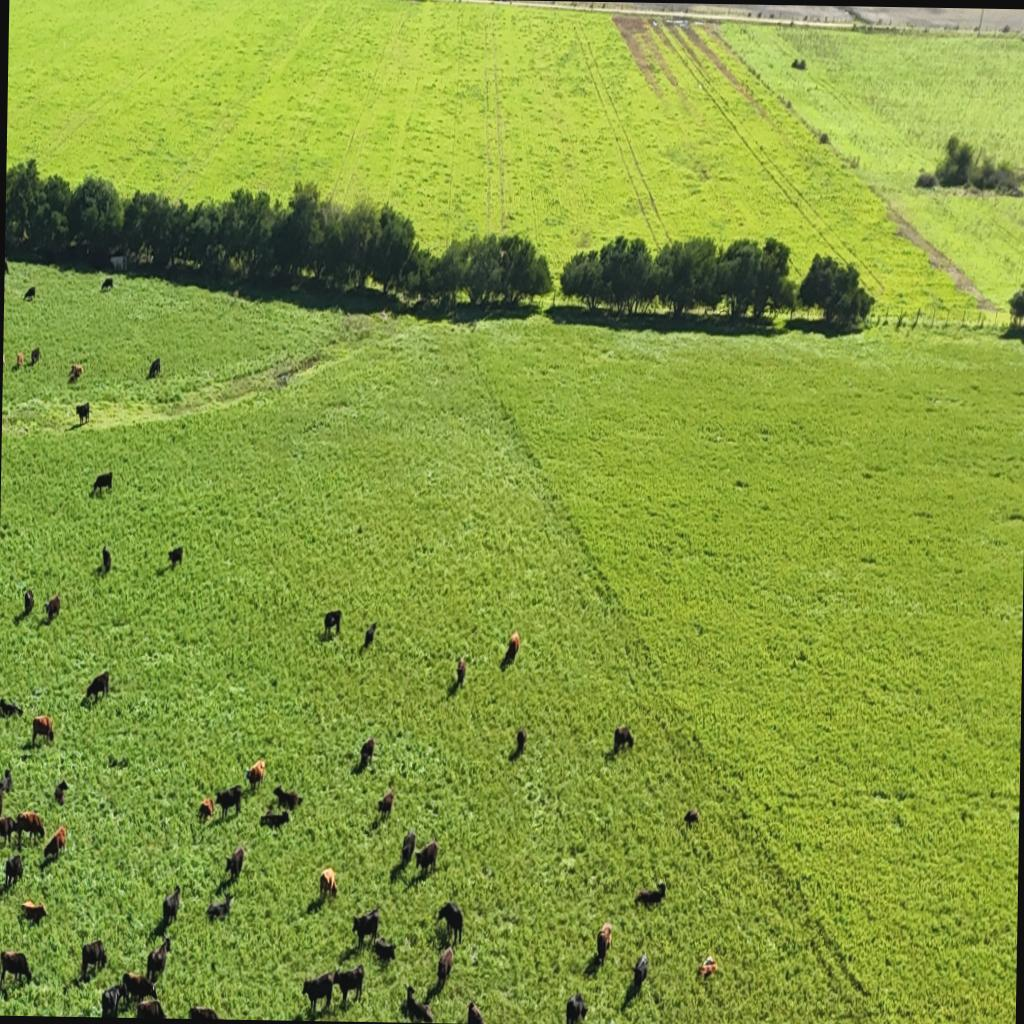cow: (300, 968, 335, 1014), (332, 962, 364, 1007), (0, 948, 33, 988), (124, 970, 160, 1006), (402, 982, 433, 1023), (352, 906, 380, 949), (437, 900, 464, 944), (145, 937, 170, 983), (14, 810, 45, 846), (628, 951, 650, 1001), (80, 938, 106, 980), (414, 838, 438, 880), (634, 880, 666, 910), (216, 784, 242, 820), (42, 824, 66, 862), (84, 670, 109, 704), (224, 844, 244, 886), (162, 884, 180, 930), (100, 982, 123, 1017), (566, 990, 589, 1024), (205, 893, 231, 923), (3, 852, 23, 890), (436, 944, 454, 986), (273, 785, 302, 811), (244, 758, 266, 792), (582, 948, 606, 979), (596, 920, 613, 962), (30, 714, 53, 745), (21, 899, 47, 926), (372, 936, 396, 964), (0, 813, 17, 852), (136, 996, 166, 1018), (319, 866, 337, 900), (91, 471, 113, 498), (503, 629, 520, 663), (376, 788, 394, 820), (400, 828, 416, 864), (614, 724, 634, 752), (358, 735, 375, 766), (452, 654, 467, 688), (260, 810, 288, 828), (324, 609, 341, 637), (188, 1004, 219, 1019), (0, 697, 22, 718), (698, 958, 718, 980), (44, 594, 60, 621), (468, 1000, 484, 1024), (167, 544, 183, 568), (198, 796, 214, 820), (100, 544, 112, 574), (76, 404, 90, 429), (0, 768, 13, 794), (22, 588, 34, 616), (54, 780, 68, 804), (364, 620, 376, 646), (684, 806, 700, 825), (147, 356, 160, 378), (516, 726, 527, 752), (68, 364, 82, 384), (30, 346, 40, 366), (100, 278, 113, 292), (14, 351, 24, 369), (24, 285, 36, 299)
